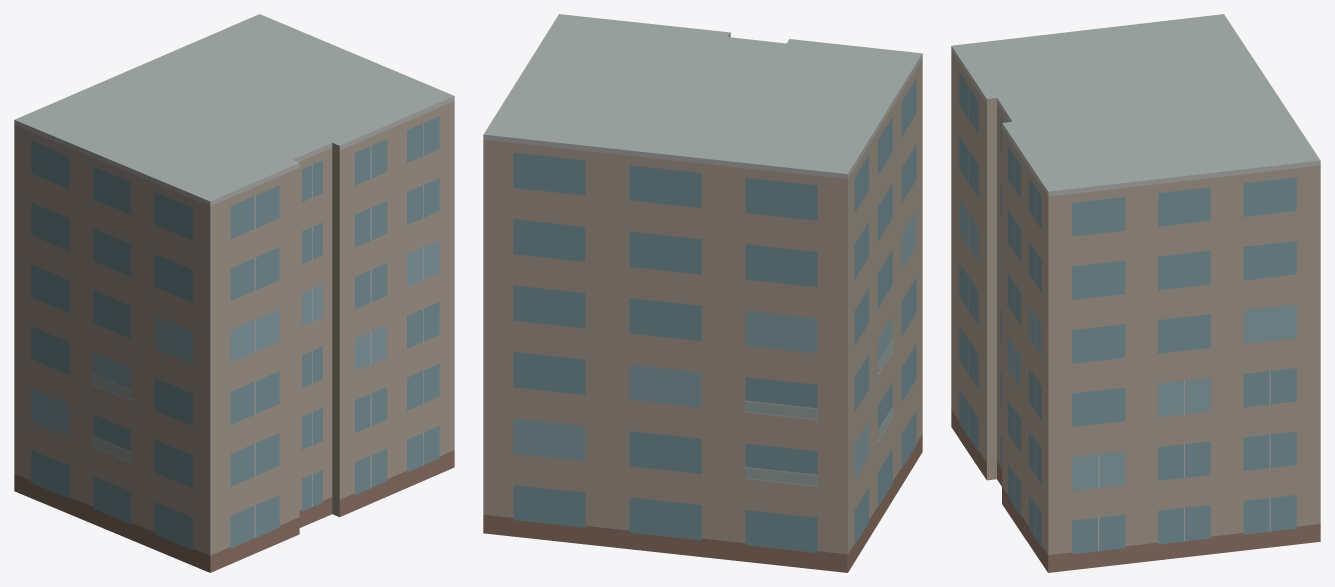
Rendered from survey-upis-32562377.glb.
3 renders of one model, left to right at view 1: azimuth 30°, elevation 25°; view 2: azimuth 150°, elevation 25°; view 3: azimuth 270°, elevation 25°, orthographic. The views are drawn at different scales.
Parts seen in each view (by area): view 1: survey-upis-32562377.tmp; view 2: survey-upis-32562377.tmp; view 3: survey-upis-32562377.tmp.
Boxes of the visible parts, box(x1,y1,x2,y2) form: survey-upis-32562377.tmp: box(14, 14, 454, 572); survey-upis-32562377.tmp: box(483, 14, 922, 572); survey-upis-32562377.tmp: box(951, 14, 1320, 572).
Bounding box in the file's own units: 18.8 × 18.8 × 16.51.
